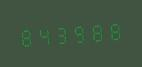eight: (17, 23, 34, 49), (90, 18, 107, 44), (108, 17, 125, 43)
four: (35, 22, 52, 48)
nine: (72, 19, 89, 45)
three: (54, 21, 71, 46)
